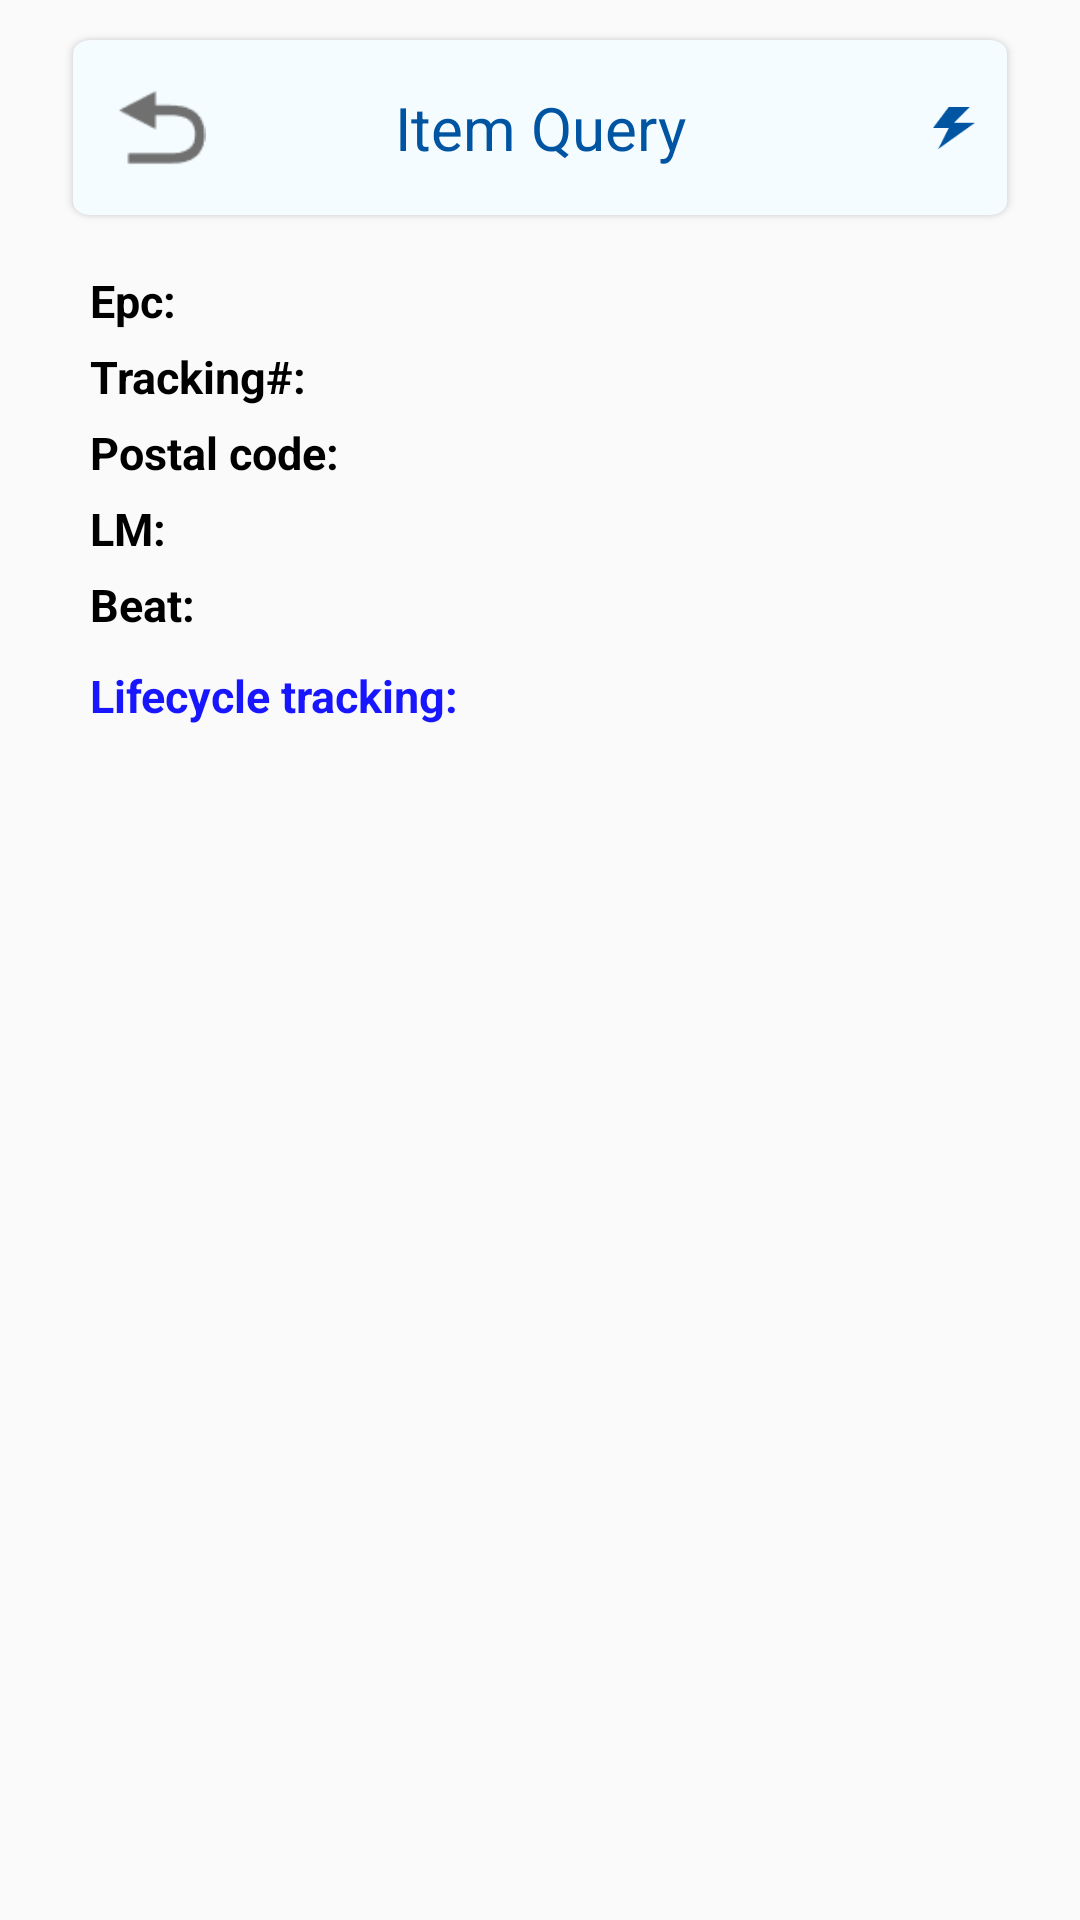

Where to tap for icons on this 1080 × 1920 app screen, as [x,y]:
back: [162,127]
power: [954,128]
